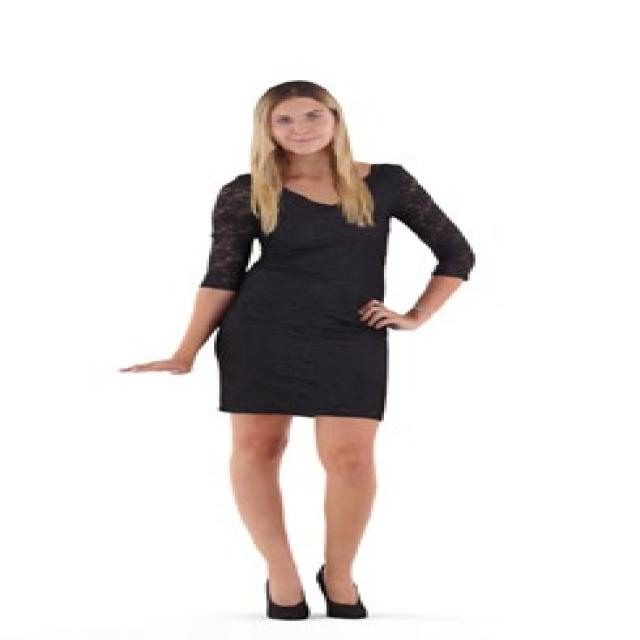standing: (122, 79, 476, 624)
